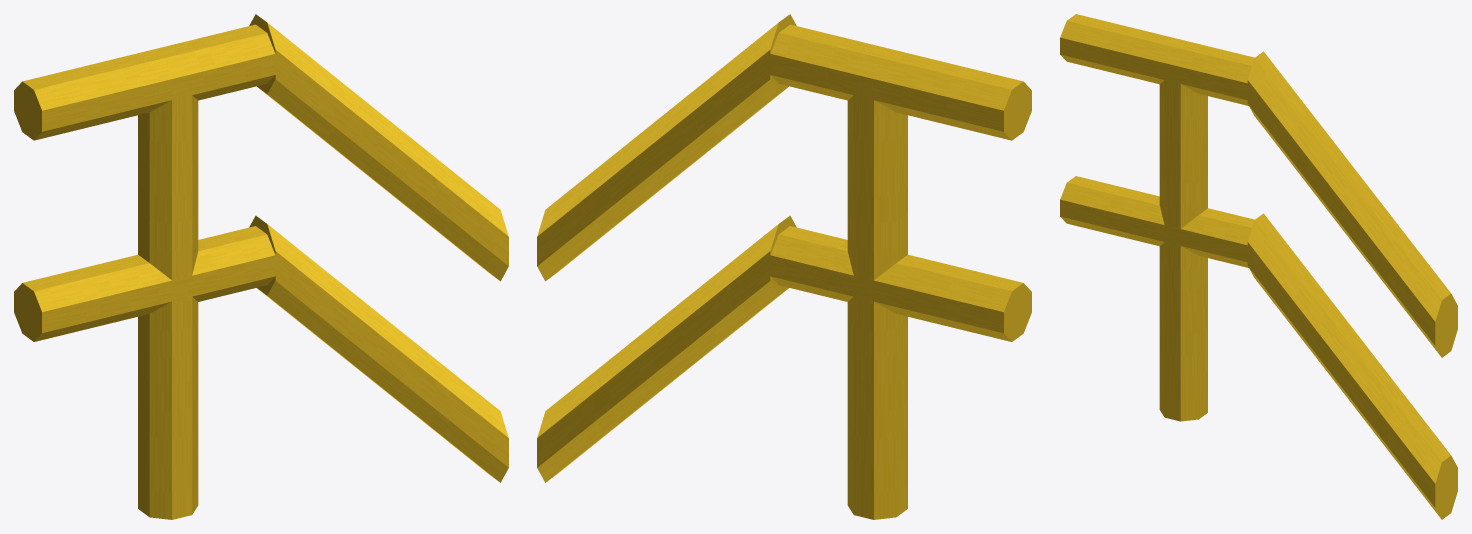
The model's file is top_neg.obj.
3 renders of one model, left to right at view 1: azimuth 30°, elevation 25°; view 2: azimuth 150°, elevation 25°; view 3: azimuth 330°, elevation 25°, orthographic. The views are drawn at different scales.
Visible parts, largest first — view 1: railing_pipe_yellow_top_neg; view 2: railing_pipe_yellow_top_neg; view 3: railing_pipe_yellow_top_neg.
Boxes of the visible parts, <box> form: railing_pipe_yellow_top_neg: <box>14,14,508,519</box>; railing_pipe_yellow_top_neg: <box>537,14,1031,519</box>; railing_pipe_yellow_top_neg: <box>1060,14,1457,519</box>.
Size of the model in its own units: 1 by 1.06 by 0.1039.
